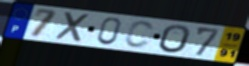0: (96, 17, 123, 46)
7: (29, 7, 60, 38), (195, 26, 223, 58)
C: (123, 20, 156, 50)
O: (157, 23, 192, 54)
X: (54, 10, 93, 44)
